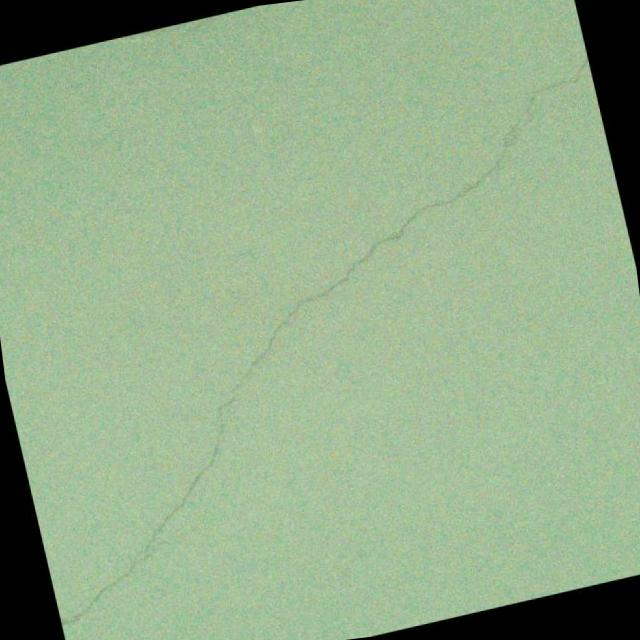crack: (0, 54, 640, 631)
